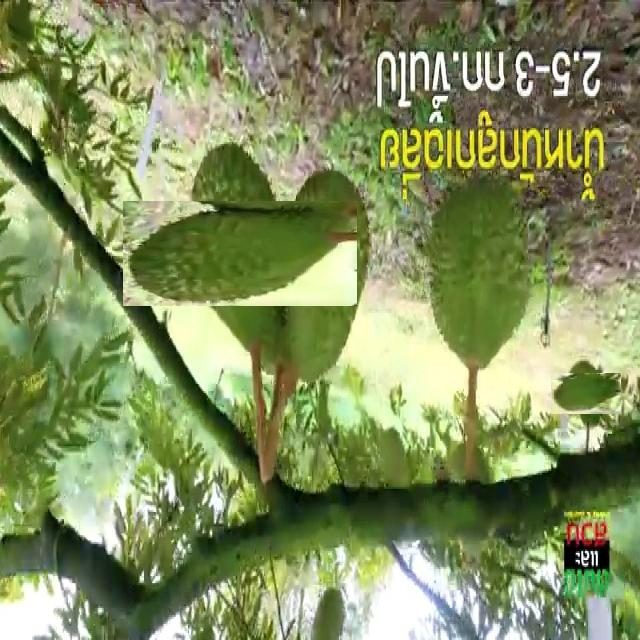durian: (155, 169, 325, 339), (425, 172, 539, 371), (277, 163, 374, 386), (558, 366, 614, 422), (308, 584, 348, 640)
